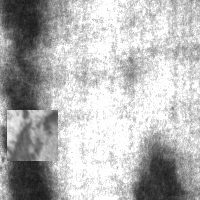patches: (2, 45, 43, 200), (1, 1, 50, 56), (7, 110, 58, 161), (135, 149, 176, 200)
